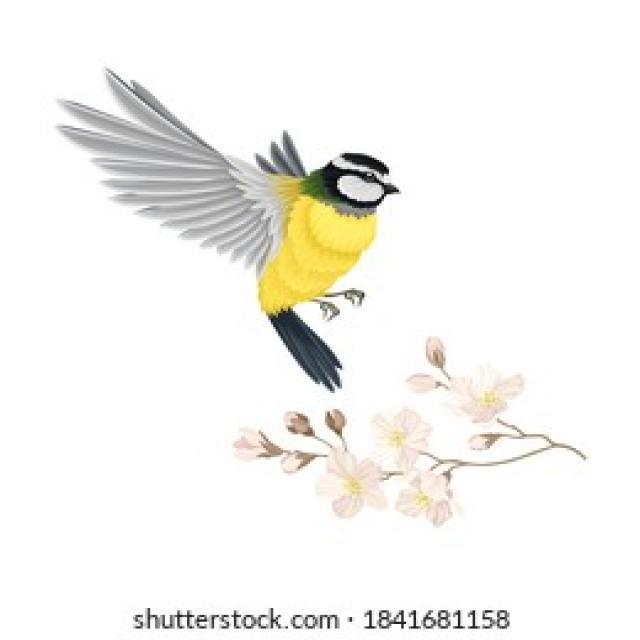bird: (13, 16, 464, 473)
